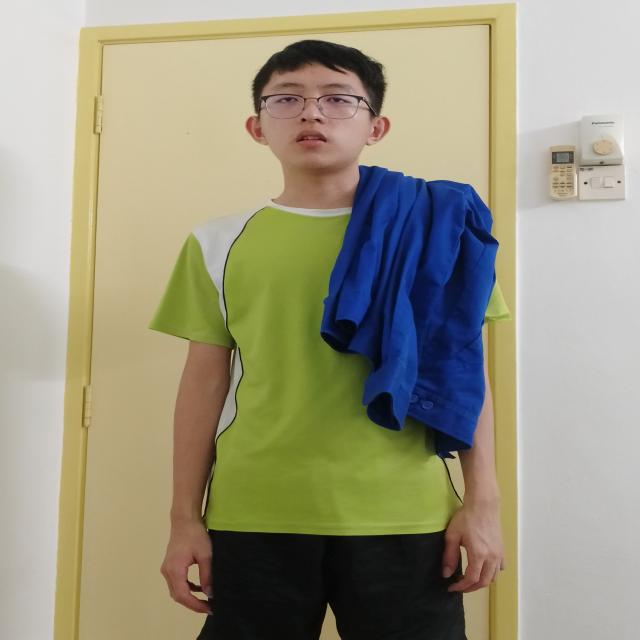person_without_labcoat: (150, 40, 508, 640)
